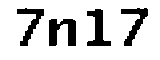1: (84, 4, 116, 49)
7: (118, 5, 154, 51), (12, 3, 44, 47)
n: (46, 13, 81, 52)
